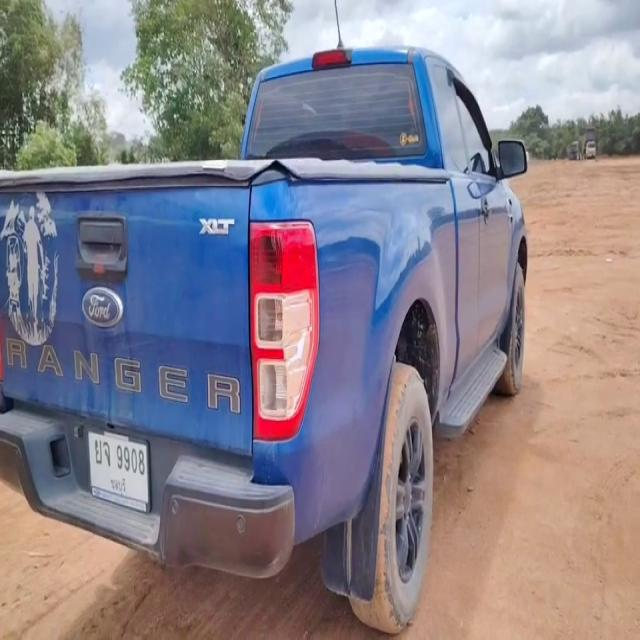Digit: (116, 442, 144, 476)
Licenseplate: (88, 427, 150, 514)
Provincename: (110, 474, 128, 495)
Thaichar: (94, 434, 110, 468)
